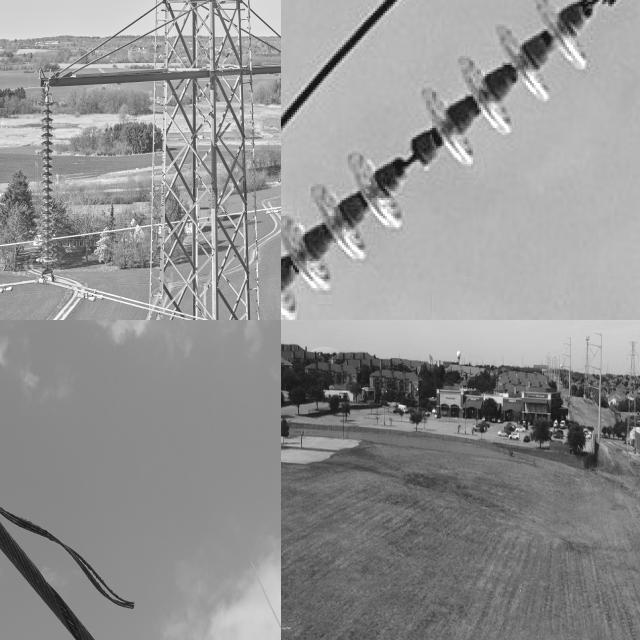杆塔: (154, 0, 260, 320), (625, 337, 640, 454), (582, 333, 592, 401)
正常绝缘子: (281, 0, 619, 320), (34, 100, 66, 270)
电缆破损: (0, 450, 191, 640)
绝缘子破损: (391, 124, 430, 183)
